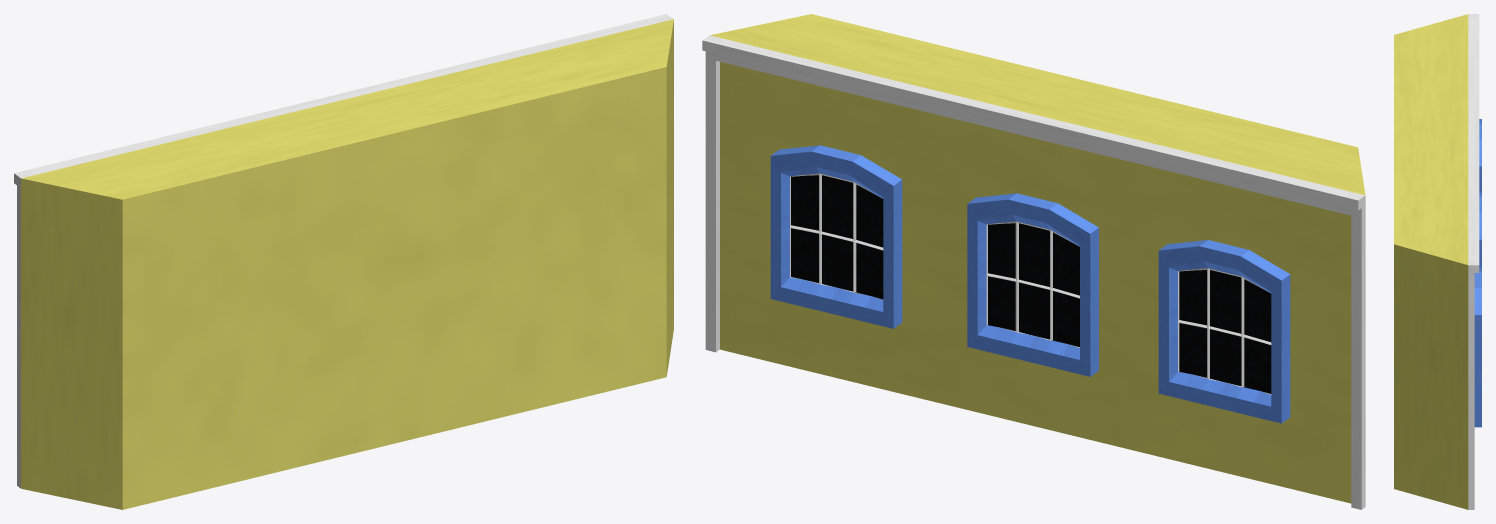
Rendered from casaflo1andar2.gltf.
3 views of the same model, side by side, from view 1: azimuth 30°, elevation 25°; view 2: azimuth 150°, elevation 25°; view 3: azimuth 270°, elevation 25° (orthographic). The views are drawn at different scales.
Parts seen in each view (by area): view 1: cuboid; view 2: cuboid (×4); view 3: cuboid (×4).
Part boxes in pixels (box(x1,y1,x2,y2)): cuboid: box(14, 14, 673, 509); cuboid (×4): box(702, 14, 1365, 509); cuboid (×4): box(1394, 14, 1481, 509).
Size of the model in its own units: 3 by 1.36 by 0.4438.
Materials: 1 (1 with a texture image).
